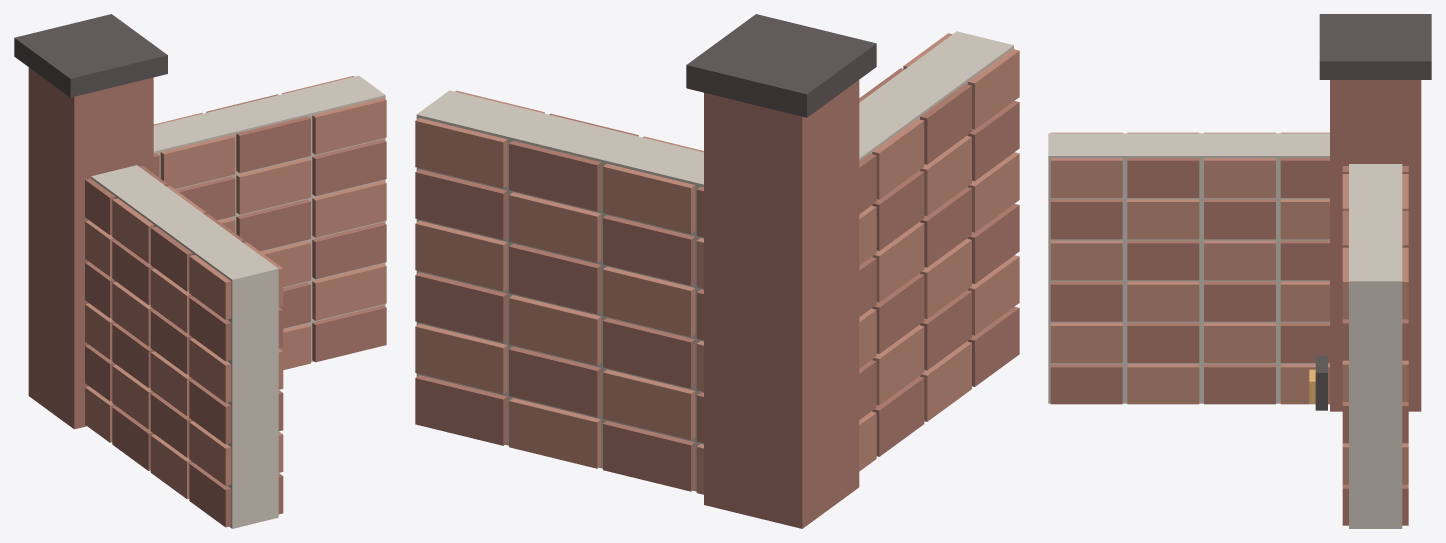
Rendered from warm_wall.glb.
3 views of the same model, side by side, from view 1: azimuth 30°, elevation 25°; view 2: azimuth 150°, elevation 25°; view 3: azimuth 270°, elevation 25° (orthographic). The views are drawn at different scales.
Bounding box in the file's own units: 0.915 × 0.945 × 0.925.
